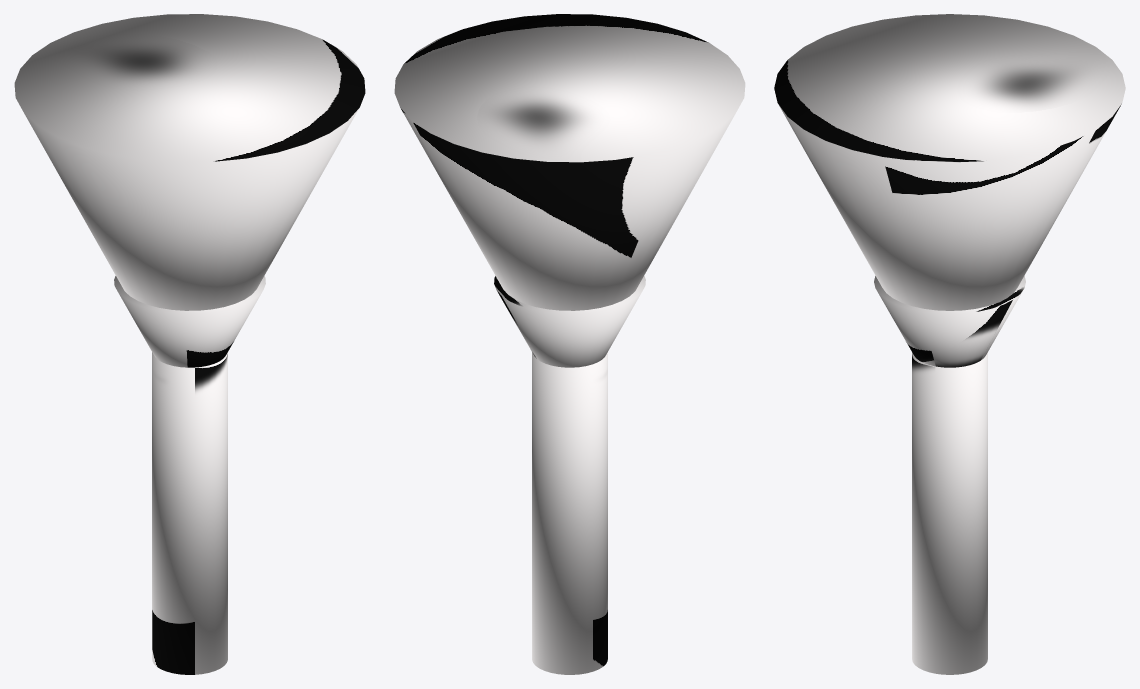
File: light.obj
3 renders of one model, left to right at view 1: azimuth 30°, elevation 25°; view 2: azimuth 150°, elevation 25°; view 3: azimuth 270°, elevation 25°, orthographic.
Parts seen in each view (by area): view 1: 円錐; view 2: 円錐; view 3: 円錐.
Part boxes in pixels (x1,y1,x2,y2): 円錐: (14, 14, 365, 674); 円錐: (394, 14, 745, 674); 円錐: (774, 14, 1125, 674).
Size of the model in its own units: 2.08 by 3.72 by 2.08.
Materials: 1 (1 with a texture image).
